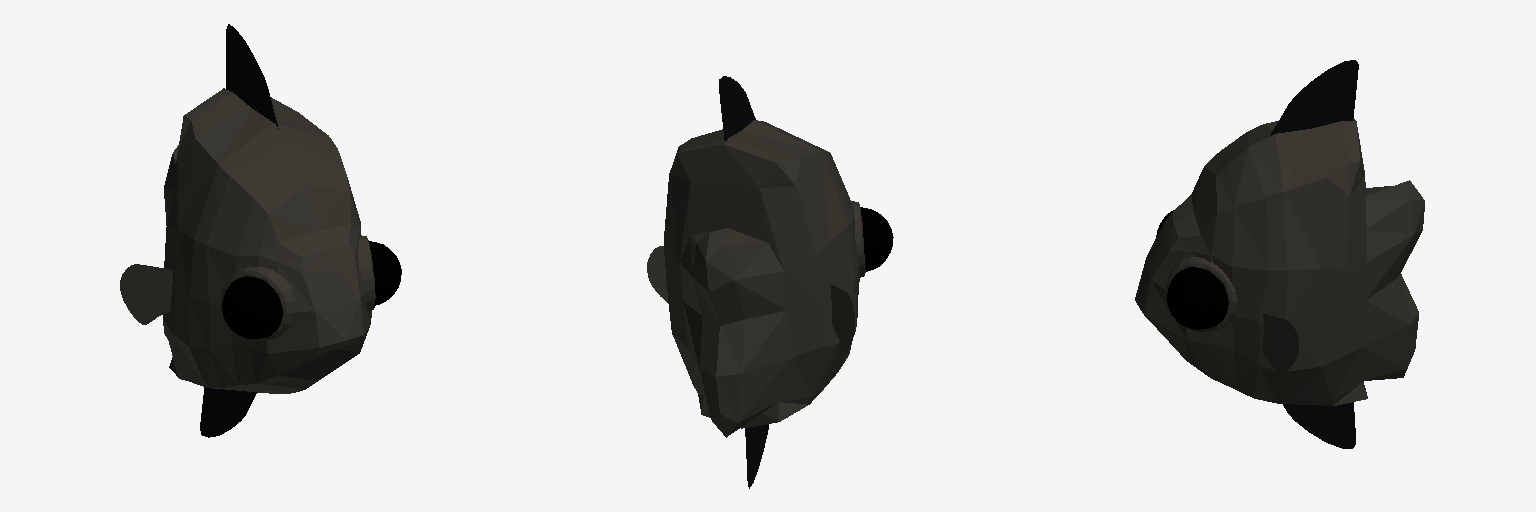
The model's file is Sunfish.obj.
The picture shows the model from 3 angles: view 1: azimuth 30°, elevation 25°; view 2: azimuth 150°, elevation 25°; view 3: azimuth 270°, elevation 25°; orthographic projection.
Parts seen in each view (by area): view 1: Sunfish_Icosphere.024; view 2: Sunfish_Icosphere.024; view 3: Sunfish_Icosphere.024.
Boxes of the visible parts, x1,y1,x2,y2 form: Sunfish_Icosphere.024: [120, 24, 401, 437]; Sunfish_Icosphere.024: [647, 76, 893, 488]; Sunfish_Icosphere.024: [1135, 60, 1424, 448].
Bounding box in the file's own units: 3.35 × 5.79 × 3.78.